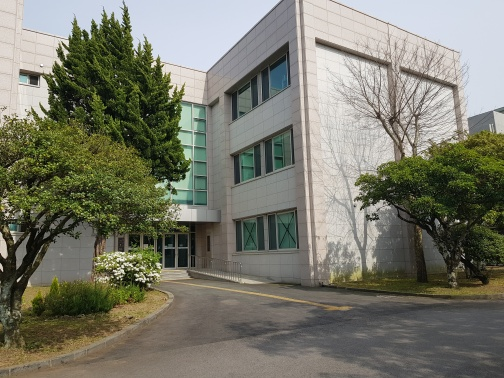College of Nursing: (28, 23, 466, 268)
